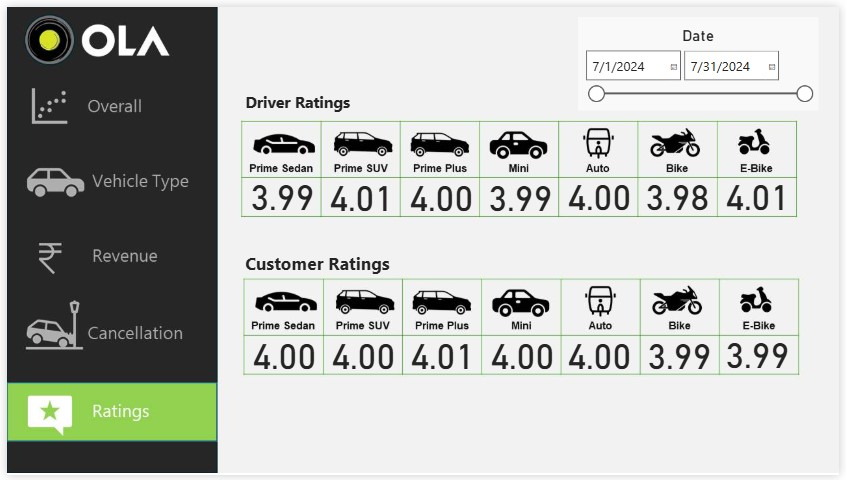

What the dashboard file says about the page in this screenshot:
{"tool":"powerbi","page":{"name":"Ratings","canvas":[1280,720],"ordinal":4},"visuals":[{"type":"actionButton","box":[0,438.3,323.3,108.3],"z":0},{"type":"actionButton","box":[0,213.3,323.3,108.3],"z":1000},{"type":"actionButton","box":[0,330,323.3,108.3],"z":2000},{"type":"actionButton","box":[0,105,323.3,108.3],"z":3000},{"type":"card","fields":{"Values":["Avg(July.Driver_Ratings)"]},"box":[361.4,255.7,124.3,62.9],"z":3001},{"type":"card","fields":{"Values":["Avg(July.Driver_Ratings)"]},"box":[482.9,257.1,124.3,62.9],"z":3002},{"type":"card","fields":{"Values":["Avg(July.Driver_Ratings)"]},"box":[605.7,257.1,124.3,62.9],"z":3003},{"type":"card","fields":{"Values":["Avg(July.Driver_Ratings)"]},"box":[727.1,257.1,124.3,62.9],"z":3004},{"type":"card","fields":{"Values":["Avg(July.Driver_Ratings)"]},"box":[848.6,255.7,124.3,62.9],"z":3005},{"type":"card","fields":{"Values":["Avg(July.Driver_Ratings)"]},"box":[968.6,255.7,124.3,62.9],"z":3006},{"type":"card","fields":{"Values":["Avg(July.Driver_Ratings)"]},"box":[1092.9,255.7,124.3,62.9],"z":3007},{"type":"textbox","box":[361.4,124.3,172.9,44.3],"z":3008},{"type":"textbox","box":[361.4,370,232.9,51.4],"z":3009},{"type":"card","fields":{"Values":["Avg(July.Customer_Rating)"]},"box":[364.3,500,124.3,62.9],"z":3010},{"type":"card","fields":{"Values":["Avg(July.Customer_Rating)"]},"box":[485.7,500,124.3,62.9],"z":3011},{"type":"card","fields":{"Values":["Avg(July.Customer_Rating)"]},"box":[607.1,500,124.3,62.9],"z":3012},{"type":"card","fields":{"Values":["Avg(July.Customer_Rating)"]},"box":[730,500,124.3,62.9],"z":3013},{"type":"card","fields":{"Values":["Avg(July.Customer_Rating)"]},"box":[848.6,500,124.3,62.9],"z":3014},{"type":"card","fields":{"Values":["Avg(July.Customer_Rating)"]},"box":[972.9,500,124.3,62.9],"z":3015},{"type":"card","fields":{"Values":["Avg(July.Customer_Rating)"]},"box":[1092.9,498.6,124.3,62.9],"z":3016},{"type":"slicer","title":"Date","fields":{"Values":["July.Date"]},"box":[878,16,370,144],"z":3017}]}

Visuals, with their boxes on the page's 1280x720 design canvas (x1, y1, x2, y2). These are canvas units, not pixel positions in the 846x480 screenshot, which may show the page scaled, cropped or inside an application window:
actionButton: 0, 438, 323, 547
actionButton: 0, 213, 323, 322
actionButton: 0, 330, 323, 438
actionButton: 0, 105, 323, 213
card - Avg(July.Driver_Ratings): 361, 256, 486, 319
card - Avg(July.Driver_Ratings): 483, 257, 607, 320
card - Avg(July.Driver_Ratings): 606, 257, 730, 320
card - Avg(July.Driver_Ratings): 727, 257, 851, 320
card - Avg(July.Driver_Ratings): 849, 256, 973, 319
card - Avg(July.Driver_Ratings): 969, 256, 1093, 319
card - Avg(July.Driver_Ratings): 1093, 256, 1217, 319
textbox: 361, 124, 534, 169
textbox: 361, 370, 594, 421
card - Avg(July.Customer_Rating): 364, 500, 489, 563
card - Avg(July.Customer_Rating): 486, 500, 610, 563
card - Avg(July.Customer_Rating): 607, 500, 731, 563
card - Avg(July.Customer_Rating): 730, 500, 854, 563
card - Avg(July.Customer_Rating): 849, 500, 973, 563
card - Avg(July.Customer_Rating): 973, 500, 1097, 563
card - Avg(July.Customer_Rating): 1093, 499, 1217, 562
"Date" slicer: 878, 16, 1248, 160
